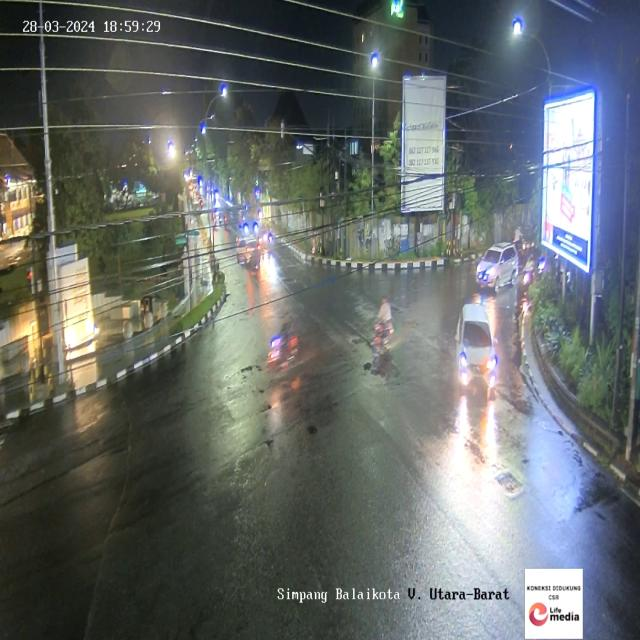car: (457, 302, 497, 400), (477, 241, 520, 291), (236, 237, 259, 267)
motorcycle: (263, 318, 299, 382), (372, 300, 393, 369), (522, 253, 534, 296)
